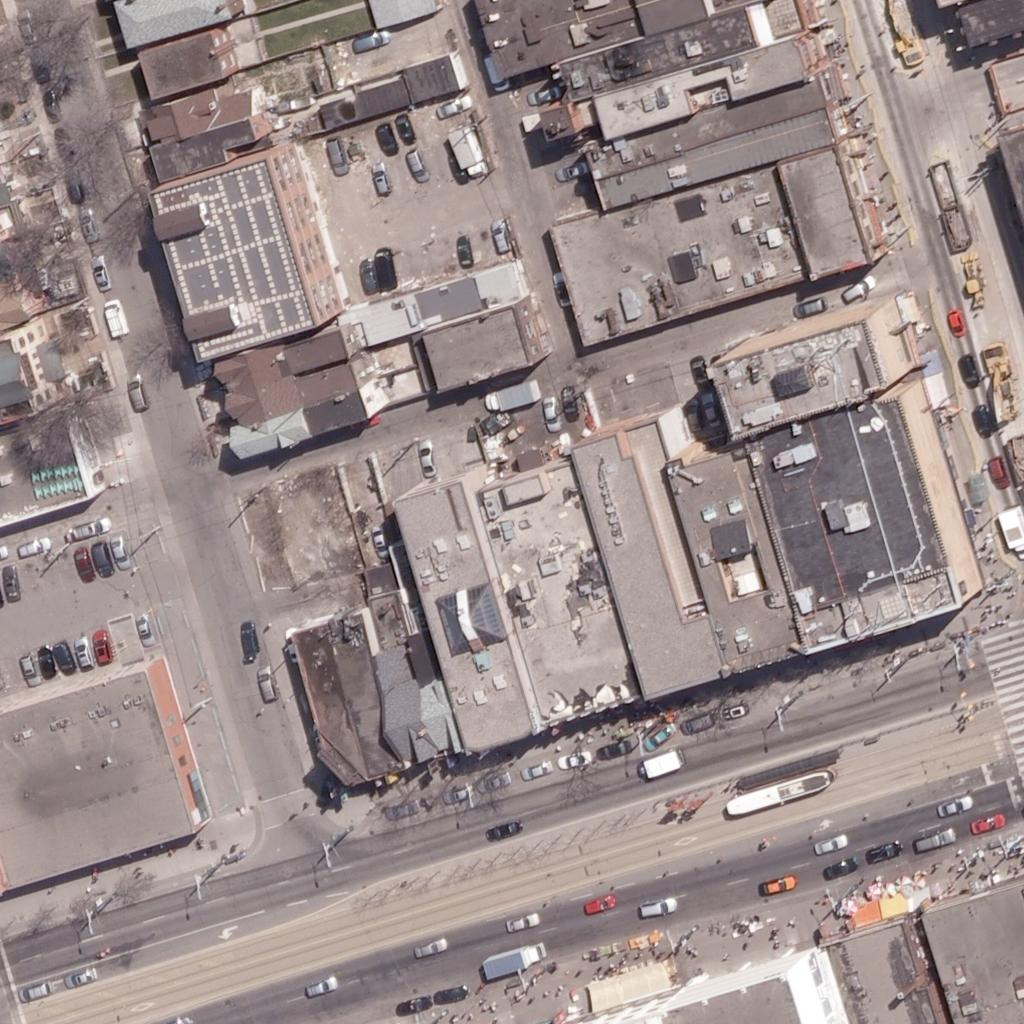car: (8, 10, 42, 44), (356, 23, 390, 57), (19, 48, 53, 82), (477, 64, 511, 98), (523, 79, 557, 113), (34, 87, 68, 121), (441, 89, 475, 123), (386, 115, 420, 149), (365, 123, 399, 157), (46, 126, 80, 160), (47, 126, 81, 160), (315, 142, 349, 176), (454, 145, 488, 179), (400, 148, 434, 182), (439, 150, 473, 184), (550, 154, 584, 188), (361, 163, 395, 197), (570, 168, 604, 202), (57, 170, 91, 204), (72, 208, 106, 242), (481, 216, 515, 250), (447, 233, 481, 267), (364, 245, 398, 279), (348, 257, 382, 291), (81, 259, 115, 293), (845, 268, 879, 302), (544, 273, 578, 307), (784, 290, 818, 324), (101, 303, 135, 337), (938, 311, 972, 345), (680, 355, 714, 389), (950, 357, 984, 391), (120, 379, 154, 413), (552, 391, 586, 425), (693, 395, 727, 429), (674, 401, 708, 435), (534, 402, 568, 436), (967, 405, 1001, 439), (405, 436, 439, 470), (978, 454, 1012, 488), (75, 510, 109, 544), (22, 529, 56, 563), (364, 531, 398, 565), (104, 532, 138, 566), (79, 542, 113, 576), (68, 544, 102, 578), (122, 611, 156, 645), (232, 624, 266, 658), (68, 634, 102, 668), (85, 635, 119, 669), (49, 639, 83, 673), (31, 644, 65, 678), (10, 653, 44, 687), (249, 670, 283, 704), (718, 693, 752, 727), (681, 704, 715, 738), (682, 704, 716, 738), (683, 704, 717, 738), (640, 718, 674, 752), (598, 729, 632, 763), (562, 742, 596, 776), (633, 749, 667, 783), (519, 754, 553, 788), (478, 764, 512, 798), (442, 776, 476, 810), (936, 788, 970, 822), (387, 790, 421, 824), (970, 805, 1004, 839), (483, 813, 517, 847), (918, 821, 952, 855), (816, 826, 850, 860), (870, 834, 904, 868), (870, 835, 904, 869), (829, 848, 863, 882), (760, 867, 794, 901), (760, 868, 794, 902), (583, 884, 617, 918), (641, 892, 675, 926), (504, 905, 538, 939), (412, 933, 446, 967), (70, 957, 104, 991), (65, 963, 99, 997), (21, 970, 55, 1004), (303, 971, 337, 1005), (19, 975, 53, 1009), (436, 976, 470, 1010), (402, 985, 436, 1019), (0, 566, 28, 600), (997, 524, 1024, 558), (998, 524, 1024, 558), (165, 1005, 199, 1024)
